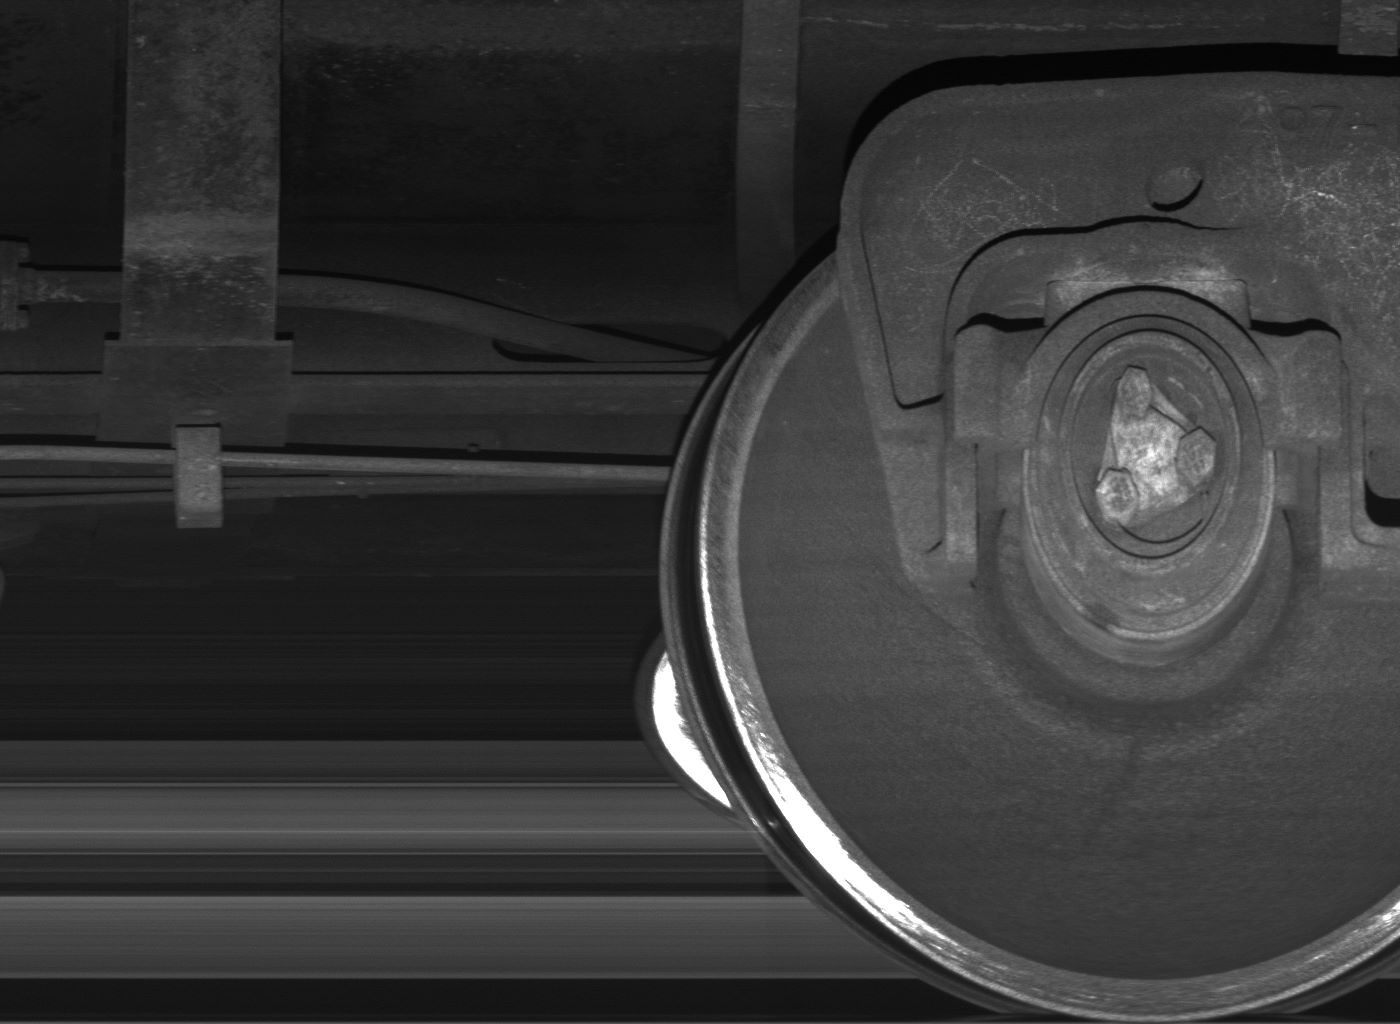normal: (175, 424, 226, 529)
